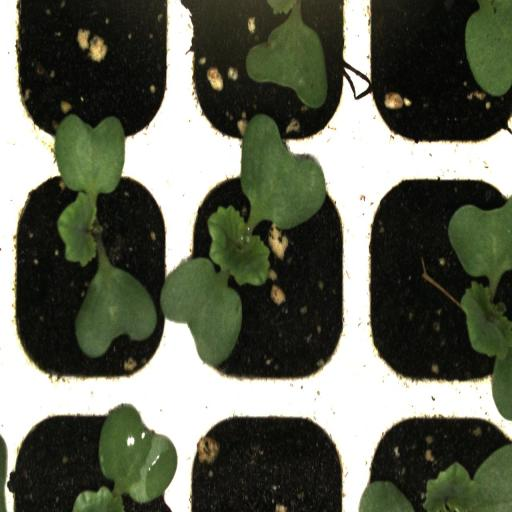Folha: (72, 404, 178, 512), (423, 444, 512, 512)
Germinacao: (2, 153, 182, 398), (180, 154, 355, 400), (355, 155, 512, 401)
